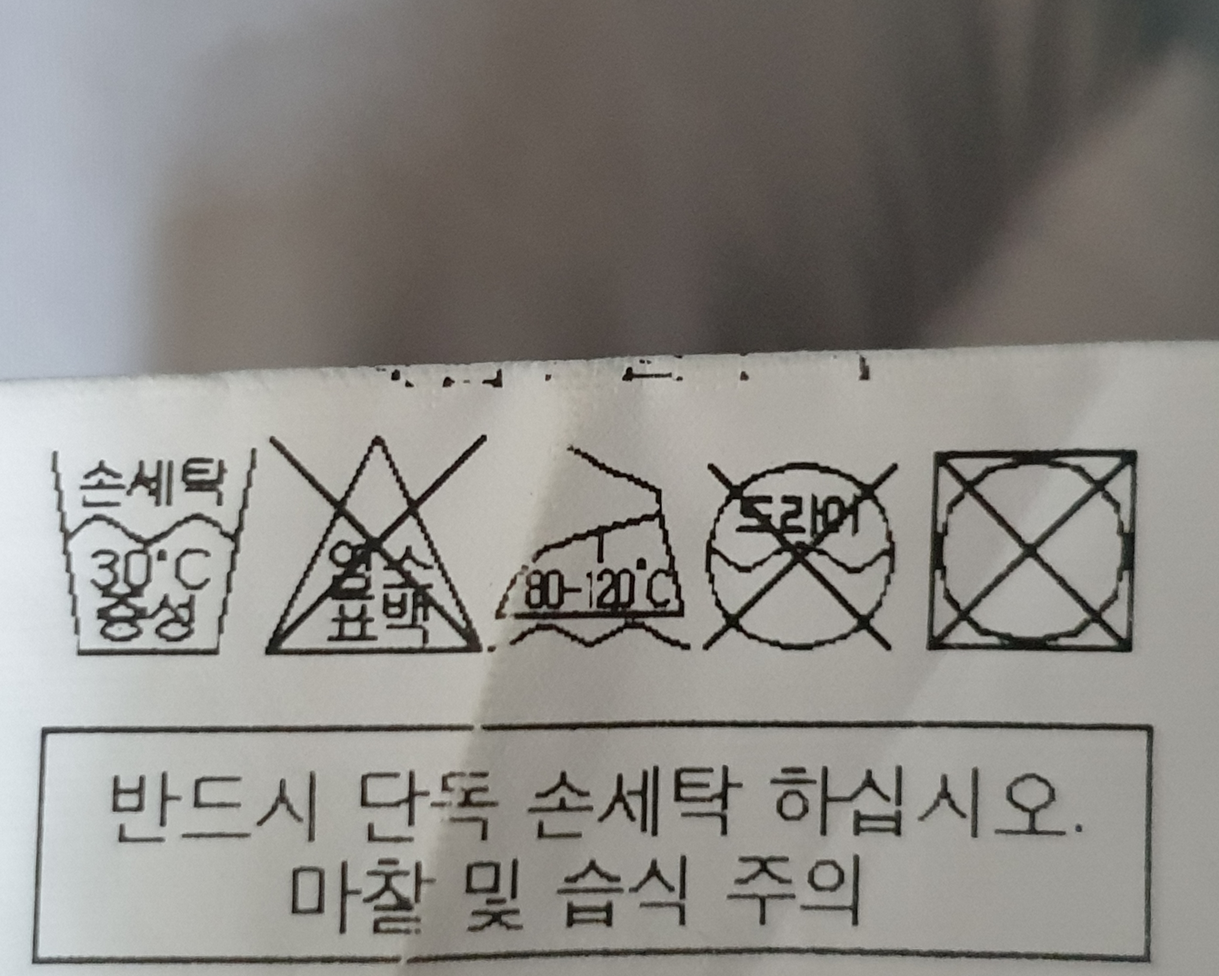KR_hand_wash_30_neutral: (46, 441, 257, 672)
KR_iron_low_temp_with_cloth: (492, 439, 696, 658)
KR_no_chlorine_bleach: (268, 437, 488, 662)
KR_no_dry_clean: (706, 444, 899, 667)
KR_no_tumble_dry: (919, 435, 1149, 669), (897, 681, 902, 683)
